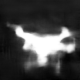plane: (5, 21, 80, 75)
